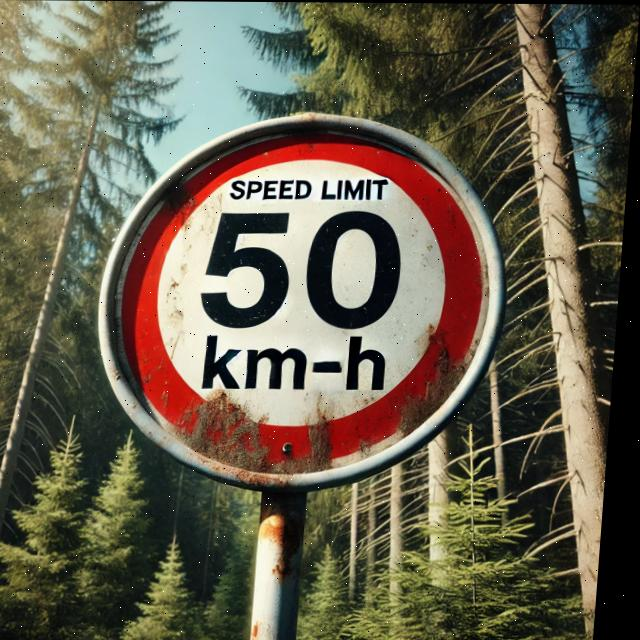Speed limit 50: (92, 110, 524, 495)
